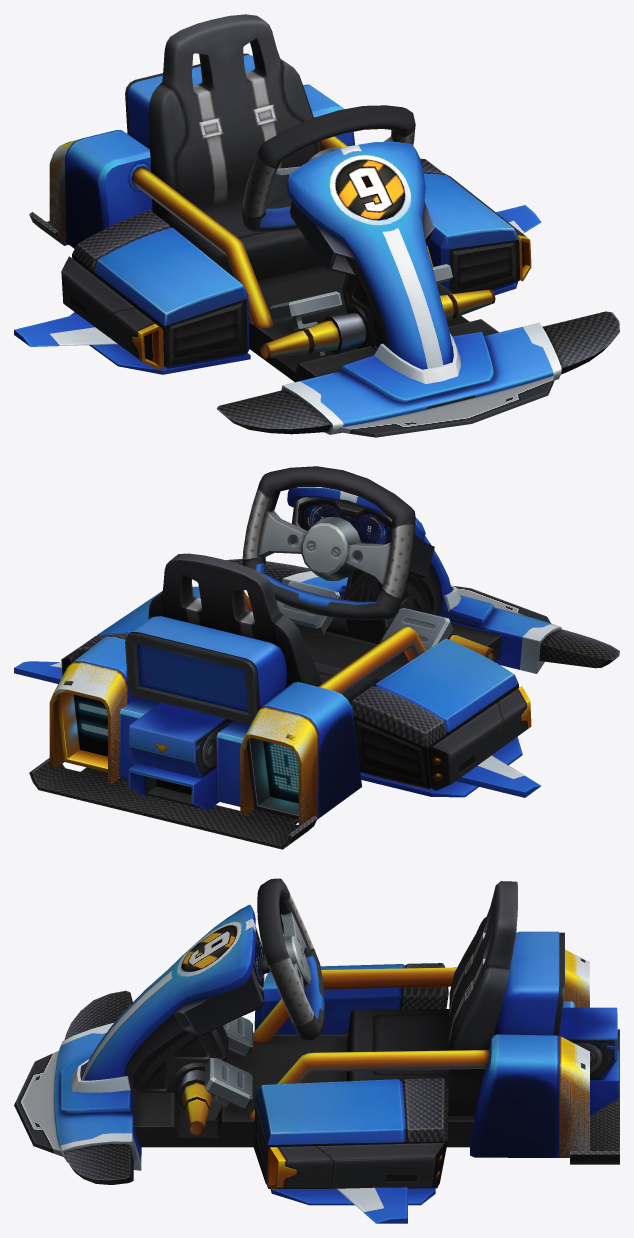
The model's file is Body3.fbx.
3 renders of one model, top to bottom at view 1: azimuth 30°, elevation 25°; view 2: azimuth 150°, elevation 25°; view 3: azimuth 270°, elevation 25°, orthographic. The views are drawn at different scales.
Parts seen in each view (by area): view 1: r_0128.002; view 2: r_0128.002; view 3: r_0128.002.
Boxes of the visible parts, x1,y1,x2,y2 form: r_0128.002: (14,14,619,437); r_0128.002: (14,466,619,849); r_0128.002: (14,878,619,1223).
Bounding box in the file's own units: 169 × 69.56 × 178.
1 material, 1 textured.
